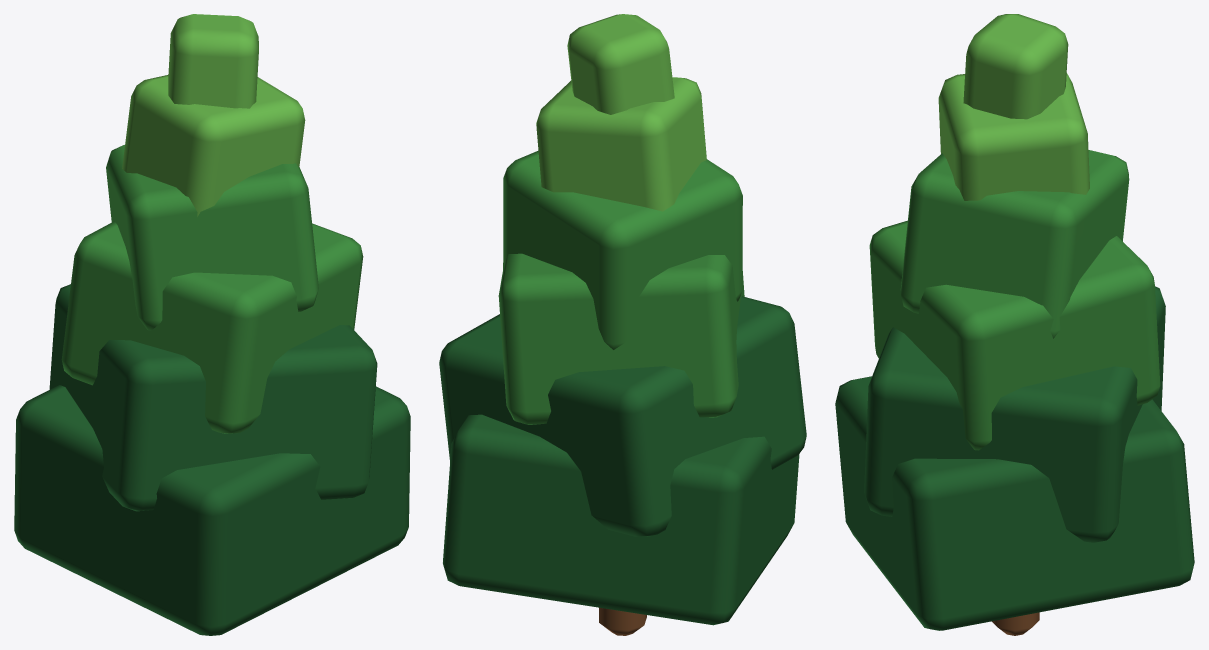
The model's file is Nature__pine.glb.
The picture shows the model from 3 angles, left to right: view 1: azimuth 30°, elevation 25°; view 2: azimuth 150°, elevation 25°; view 3: azimuth 270°, elevation 25°; orthographic projection.
Parts seen in each view (by area): view 1: pine_mesh; view 2: pine_mesh; view 3: pine_mesh.
Boxes of the visible parts, x1,y1,x2,y2 form: pine_mesh: [14, 14, 410, 635]; pine_mesh: [439, 14, 806, 635]; pine_mesh: [835, 14, 1194, 635].
Bounding box in the file's own units: 1.18 × 2.17 × 1.17.
